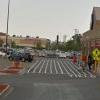Crosswalk: (29, 57, 81, 79)
